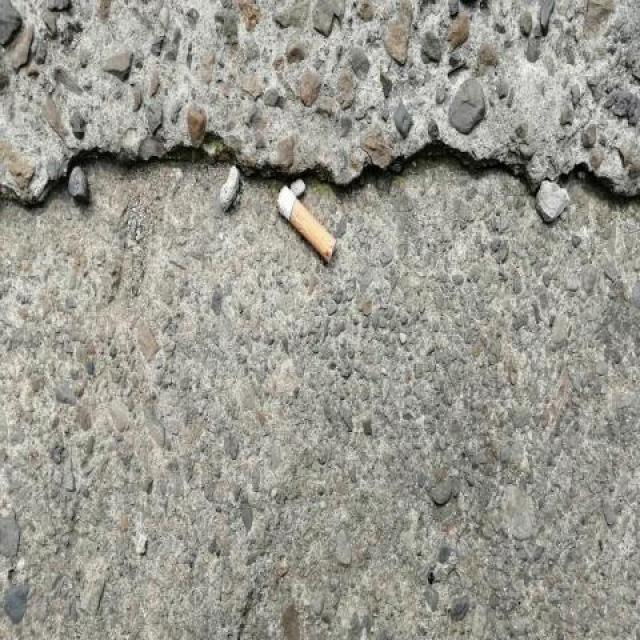non-organic waste: (272, 182, 340, 266)
